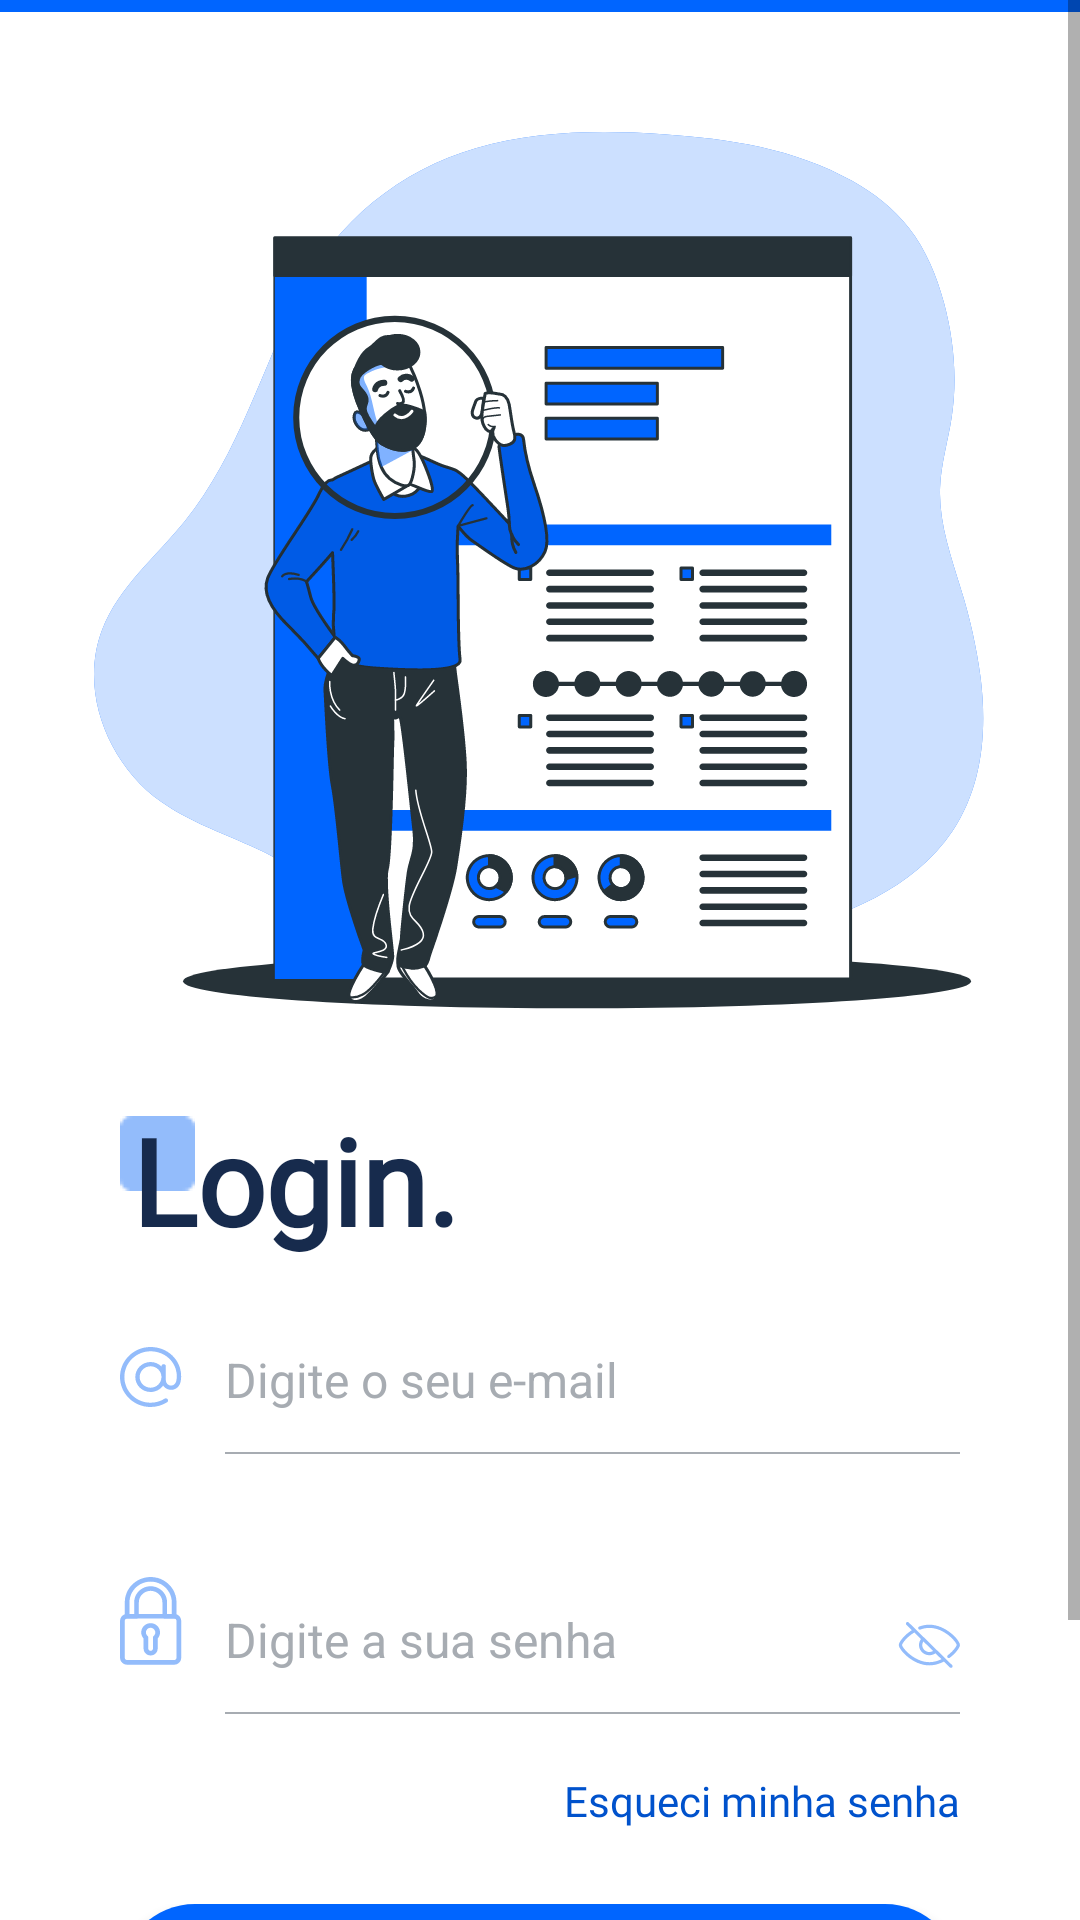

Where to tap for icons on this 1080 × 1920 app screen, as (x,y):
esconde: (929,1645)
